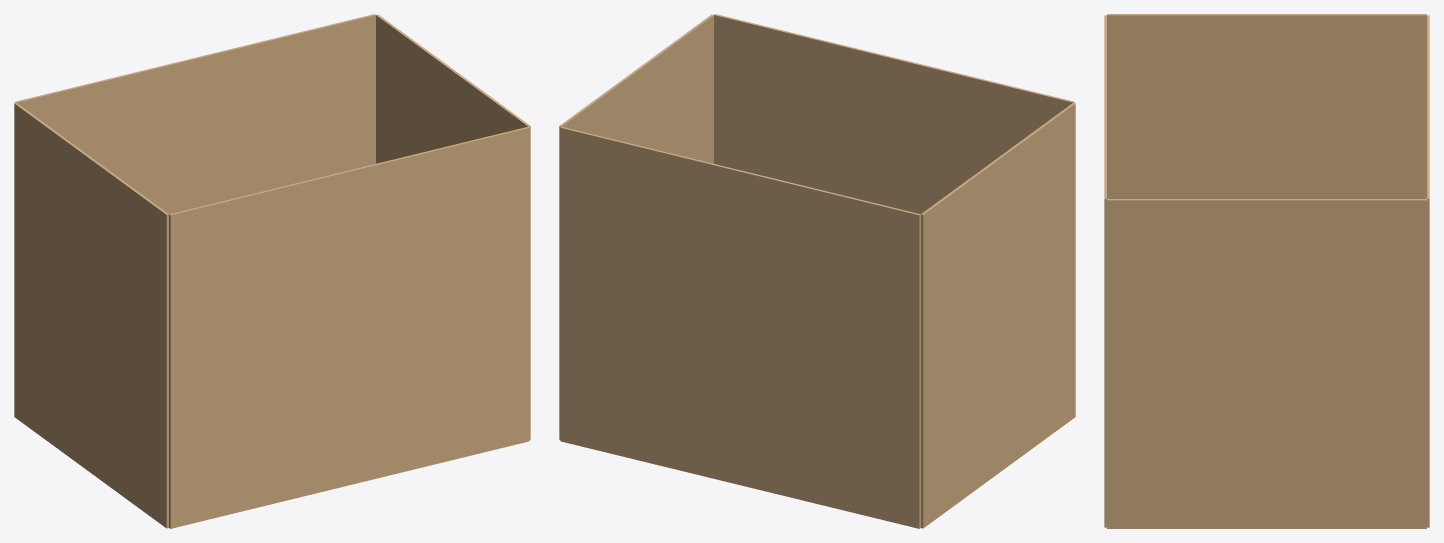
3 views of the same model, side by side, from view 1: azimuth 30°, elevation 25°; view 2: azimuth 150°, elevation 25°; view 3: azimuth 270°, elevation 25° (orthographic). The views are drawn at different scales.
Visible parts, largest first — view 1: form_1; view 2: form_1; view 3: form_1.
Part boxes in pixels (x1=…): form_1: x1=14, y1=14, x2=530, y2=528; form_1: x1=559, y1=14, x2=1075, y2=528; form_1: x1=1104, y1=14, x2=1429, y2=528.
Size of the model in its own units: 7.51 by 6.18 by 5.55.
